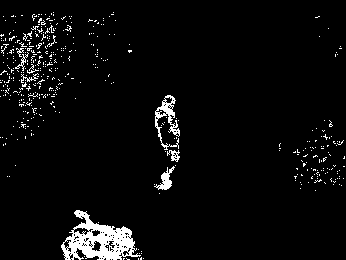person: (152, 92, 183, 194)
